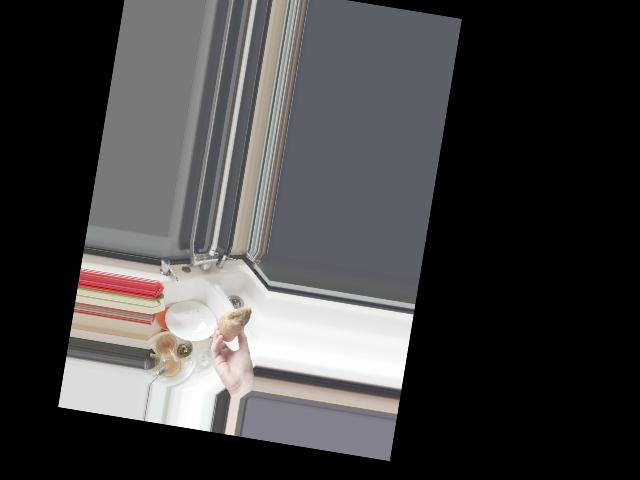sweet_potato: (214, 302, 255, 345)
